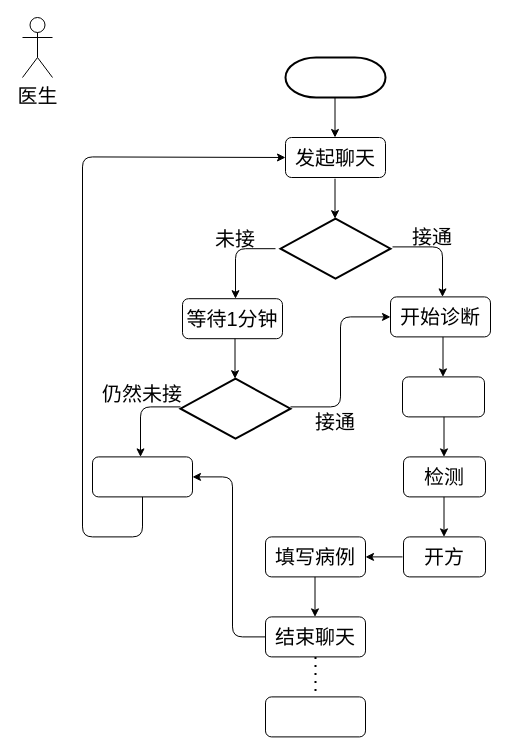
The diagram is 508 pixels wide and 755 high, and some of its shapes have lost their labels. Here are the shapes that lost their labels. From the top down, the box of each, then its label:
(284, 56, 386, 98): 问诊开始
(402, 376, 484, 417): 对话
(92, 456, 192, 497): 叫下一个
(264, 696, 366, 737): 结束问诊
